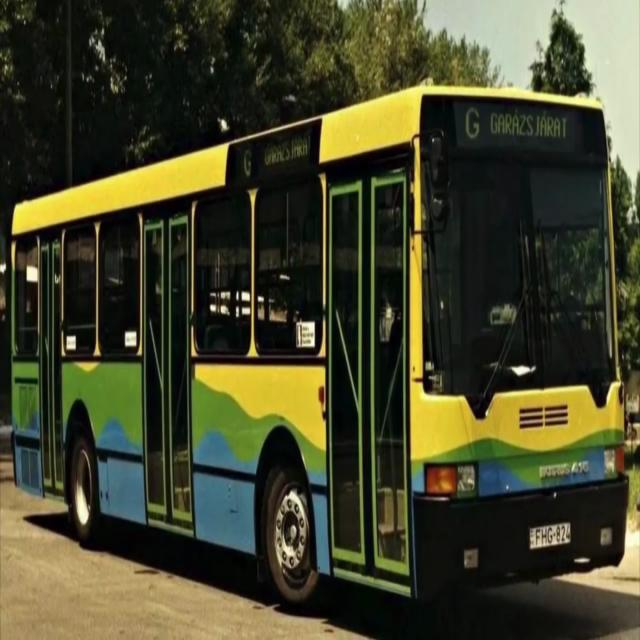bus: (7, 81, 633, 639)
